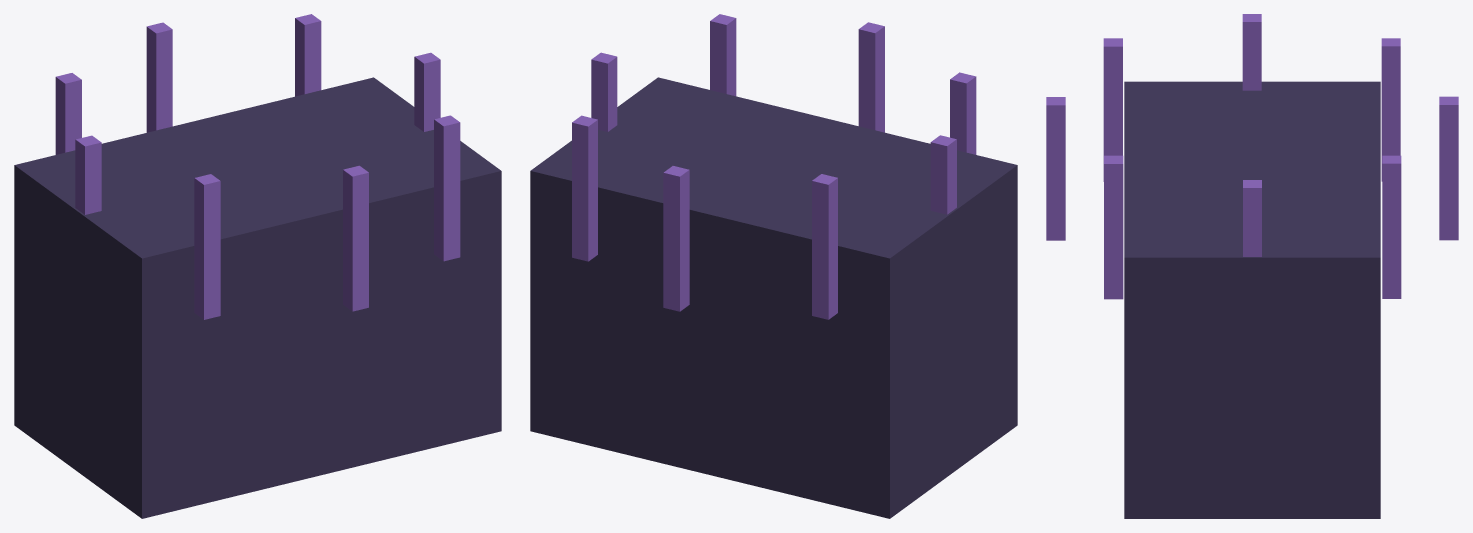
File: boss_supreme_void.glb
The picture shows the model from 3 angles, left to right: view 1: azimuth 30°, elevation 25°; view 2: azimuth 150°, elevation 25°; view 3: azimuth 270°, elevation 25°; orthographic projection.
Visible parts, largest first — view 1: geometry_0; view 2: geometry_0; view 3: geometry_0.
Part boxes in pixels (box(x1,y1,x2,y2)): geometry_0: box(14, 14, 501, 518); geometry_0: box(530, 14, 1017, 518); geometry_0: box(1046, 14, 1458, 518).
Size of the model in its own units: 1.95 by 1.7 by 1.93.
